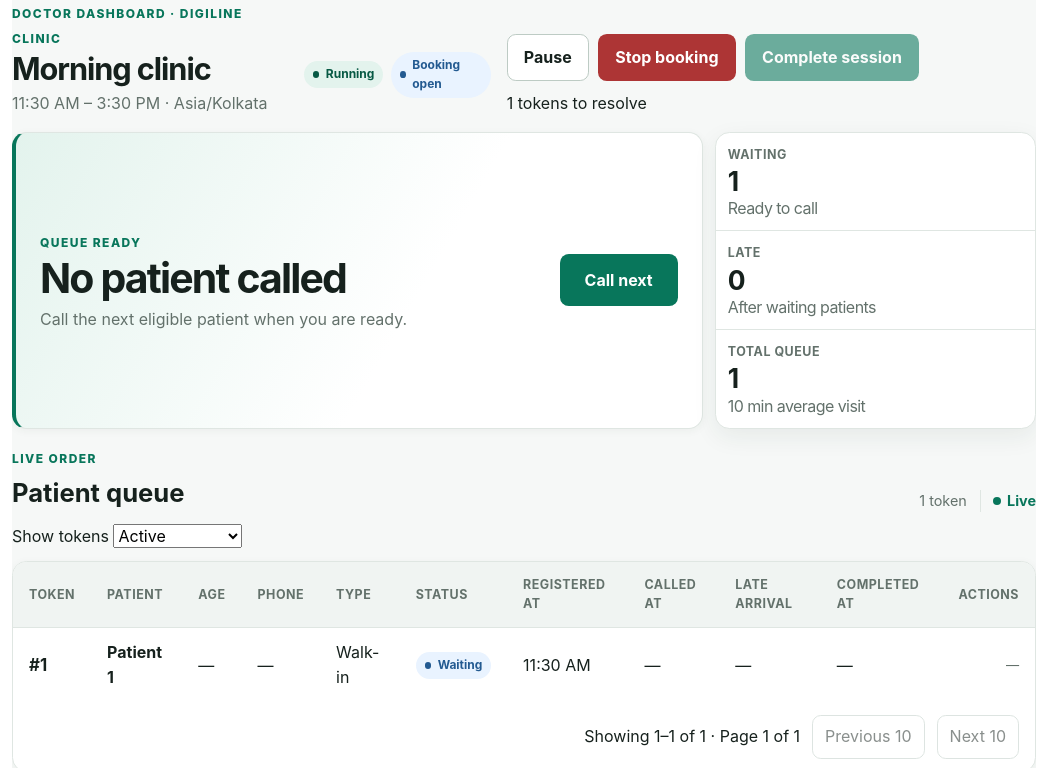
DoctorDashboard › shows backend validation detail when an action is rejected
Click the button "Call next": (619, 280) [560, 254, 678, 306]
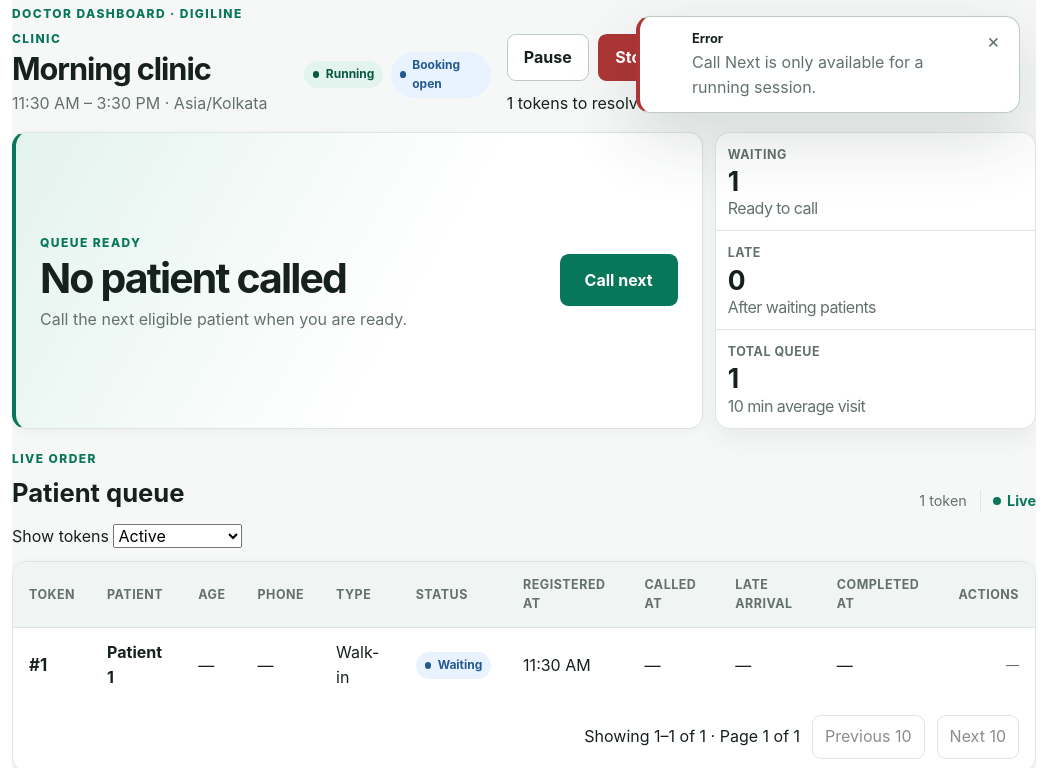
Check: the message shows "Call Next is only available for a running session.", box [692, 52, 924, 97]
